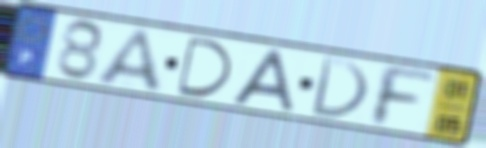8: (53, 18, 107, 83)
A: (92, 26, 166, 96), (228, 47, 298, 115)
D: (307, 54, 372, 122), (175, 34, 235, 100)
F: (370, 62, 438, 130)
